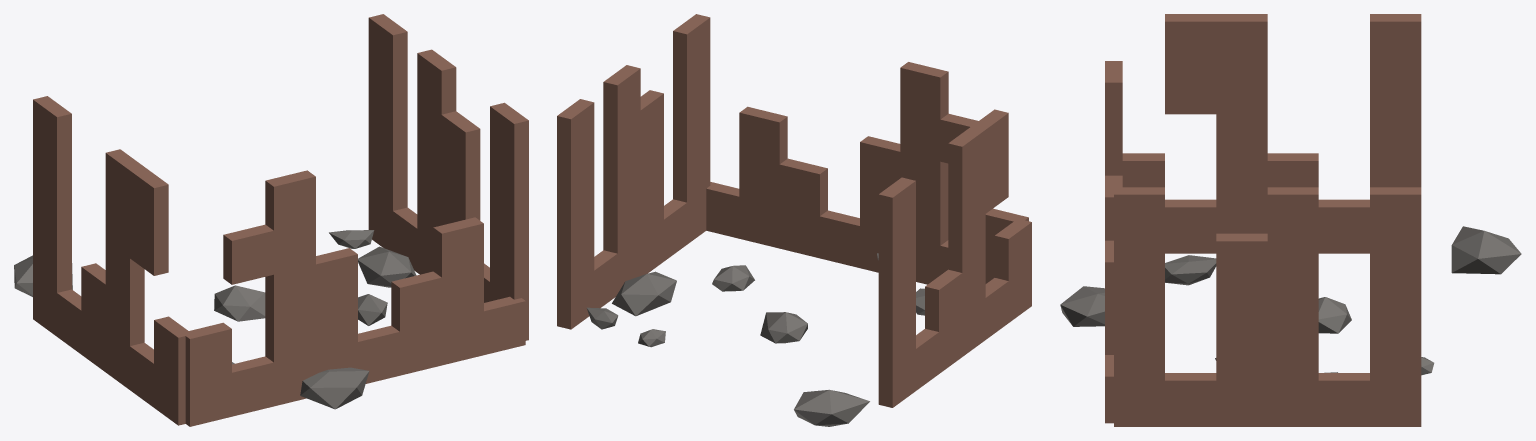
File: prop_ruin_a.glb
3 views of the same model, side by side, from view 1: azimuth 30°, elevation 25°; view 2: azimuth 150°, elevation 25°; view 3: azimuth 270°, elevation 25° (orthographic). The views are drawn at different scales.
Parts seen in each view (by area): view 1: prop_ruin_a; view 2: prop_ruin_a; view 3: prop_ruin_a.
Boxes of the visible parts, x1,y1,x2,y2 form: prop_ruin_a: (14, 14, 528, 426); prop_ruin_a: (557, 14, 1031, 426); prop_ruin_a: (1060, 14, 1521, 426).
Bounding box in the file's own units: 8.35 × 5.16 × 9.01.
